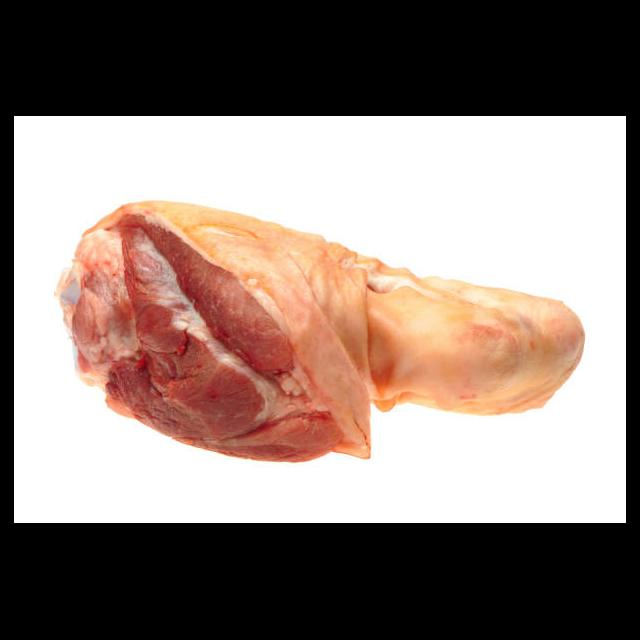chicken: (55, 200, 586, 467)
